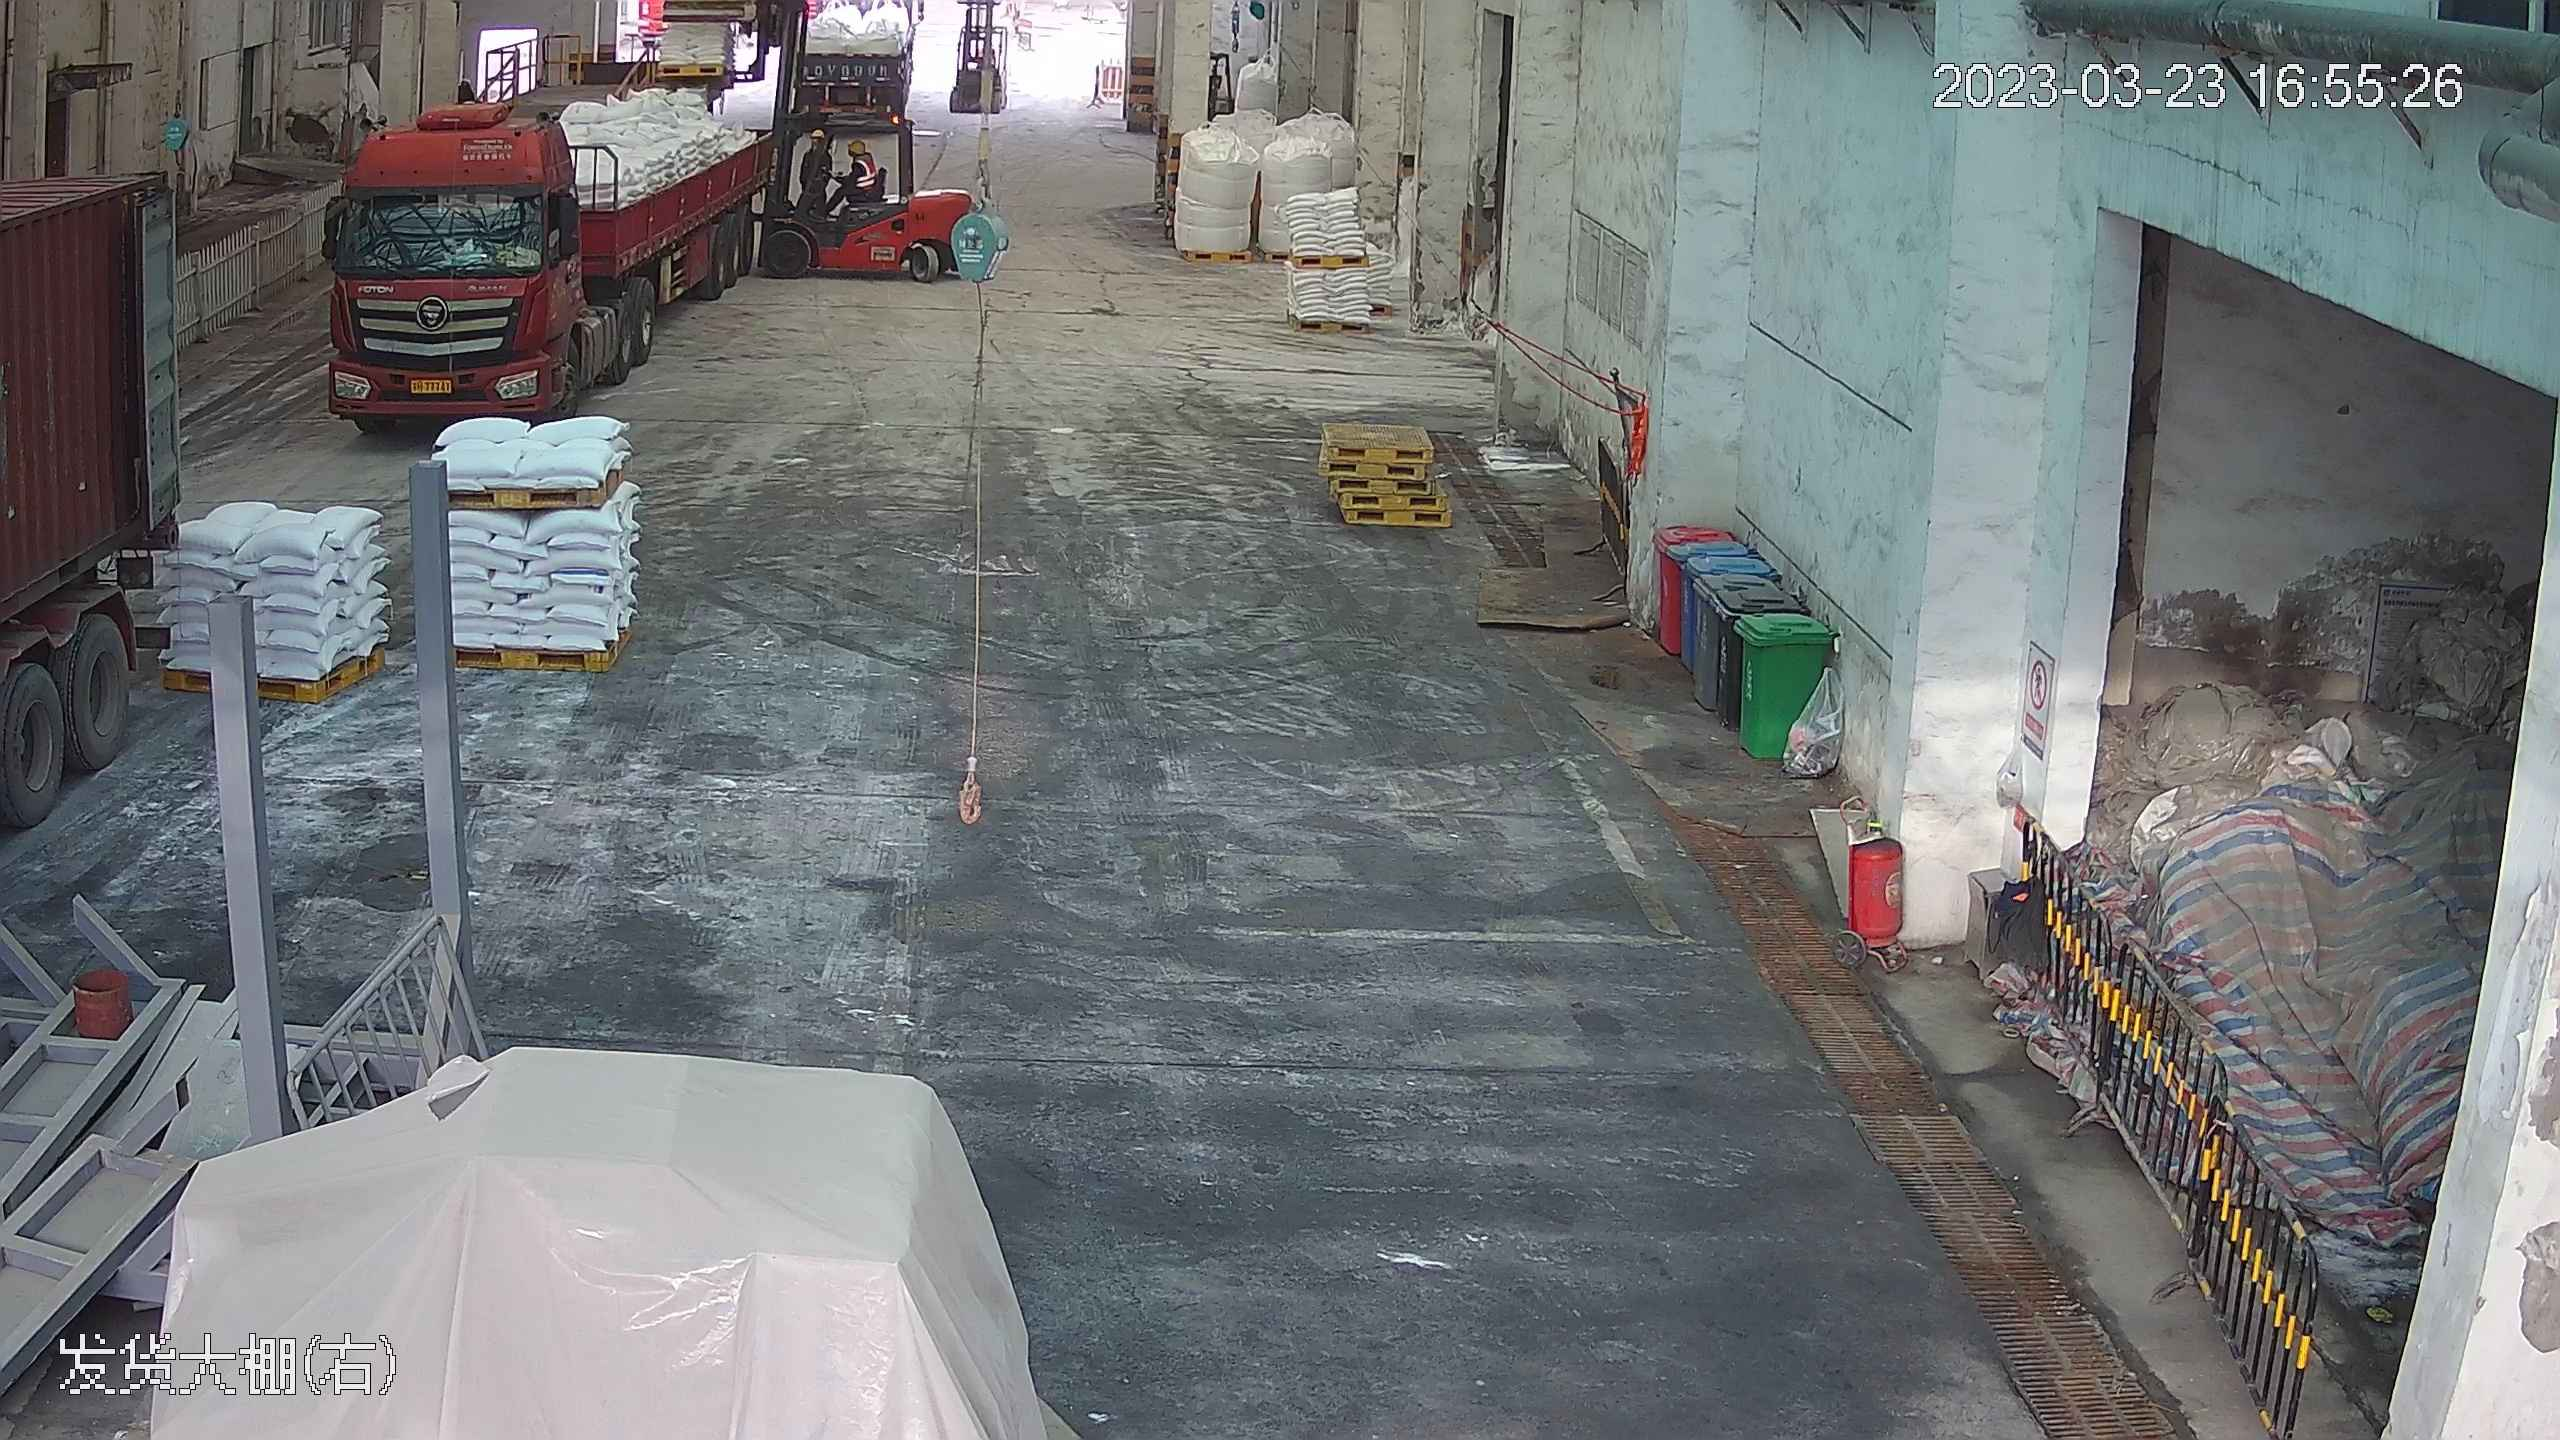head: (835, 139, 877, 185)
helmet: (842, 135, 870, 162)
people: (816, 135, 881, 230)
truck: (1, 44, 200, 1073), (308, 37, 789, 419)
